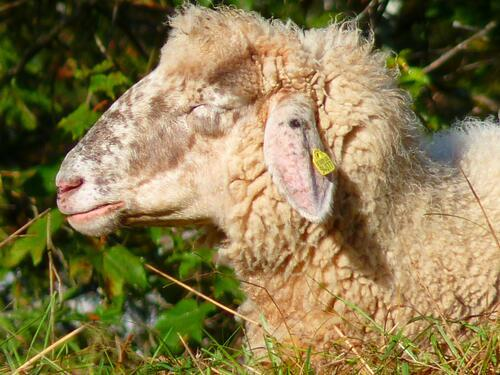sheep: (56, 0, 500, 375)
